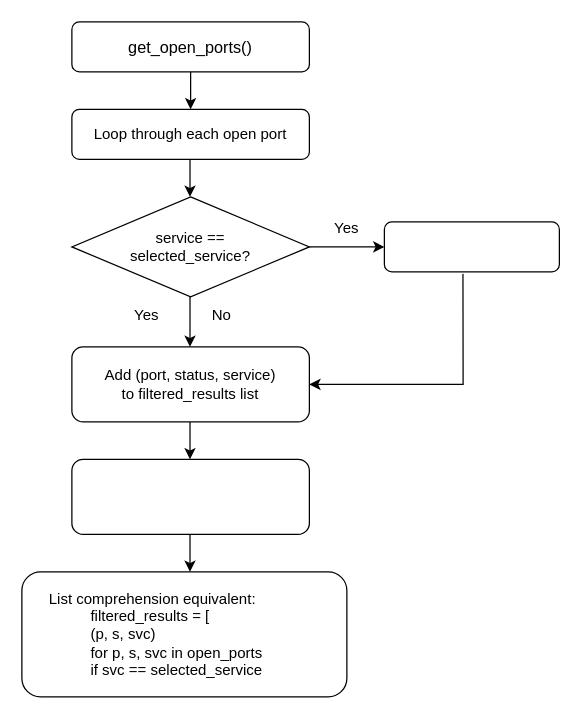
The diagram is 581 pixels wide and 719 high, and some of its shapes have lost their labels. Each missing label, with the centre of its shape:
"Print filtered scan result" goes at pixel 190 496.
"Skip port" goes at pixel 471 246.
